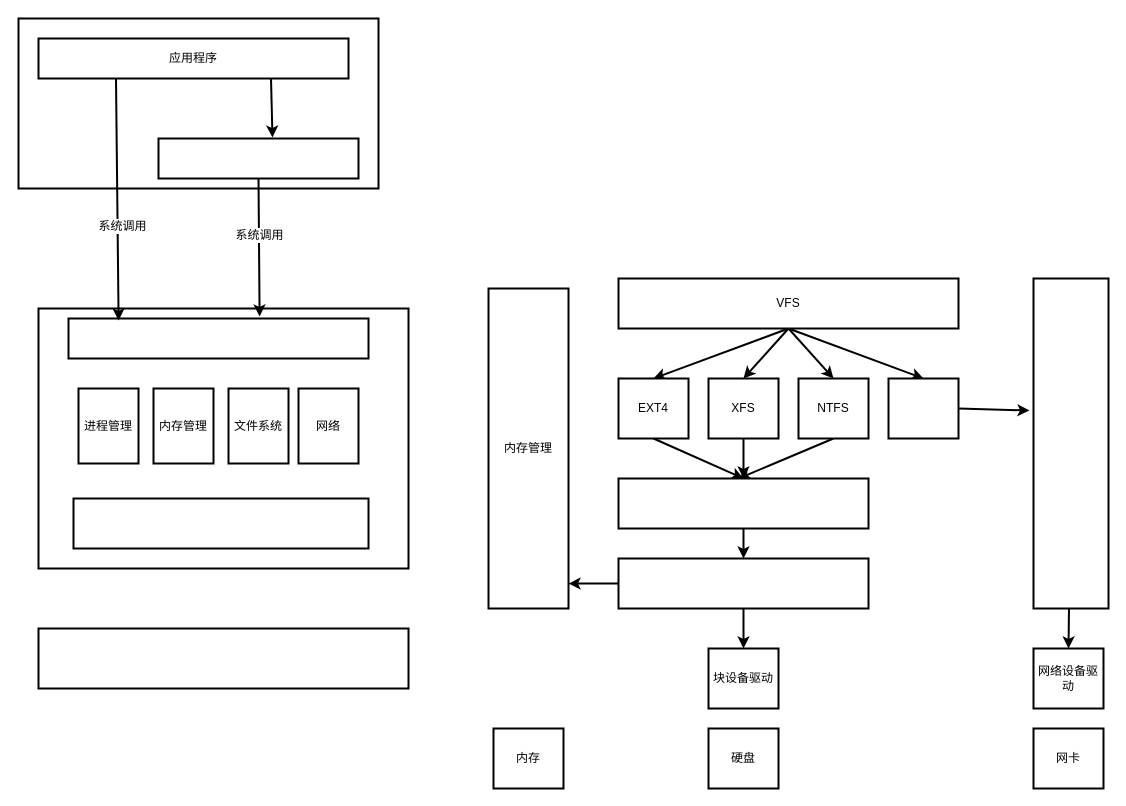
The diagram is 1126 pixels wide and 806 high, and some of its shapes have lost their labels. Here are the shapes that lost their labels. From the top down, the box of each, then its label:
(157, 137, 359, 179): Ｃ库
(67, 317, 369, 359): 系统调用接口
(887, 377, 959, 439): NFS
(1032, 277, 1109, 609): 网络子系统
(72, 497, 369, 549): 设备驱动 CPU, Memory, Storage,Network
(617, 477, 869, 529): LVM
(617, 557, 869, 609): 缓存
(37, 627, 409, 689): 硬件
